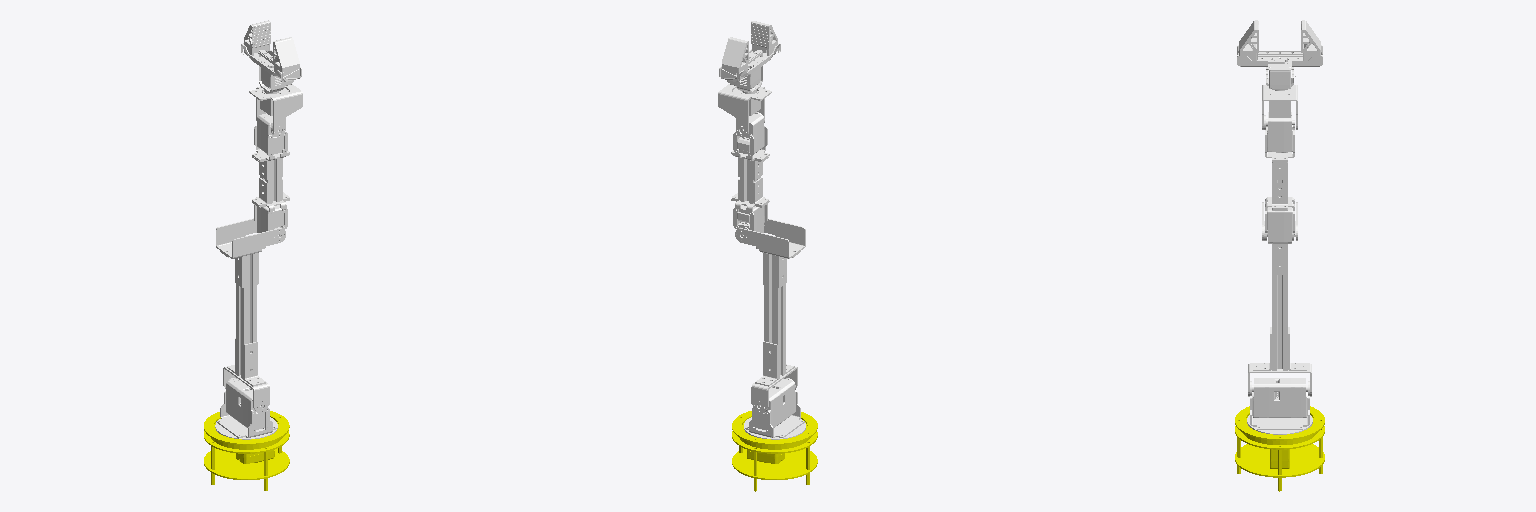
The robot description file, URDF, robot "arm_urdf_v1":
<?xml version="1.0" encoding="utf-8"?>
<!-- This URDF was automatically created by SolidWorks to URDF Exporter! Originally created by Stephen Brawner (brawner@gmail.com) 
     Commit Version: 2.1.0-preview+a777a5df7fcf83c5797e6215b2dd953ad332730e  Build Version: 2.1.0.0
     For more information, please see http://wiki.ros.org/sw_urdf_exporter -->
<robot
  name="arm_urdf_v1">
  <link
    name="base_link">
    <inertial>
      <origin
        xyz="0.0027823708301877 1.78282551845362E-05 0.0322344797388895"
        rpy="0 0 0" />
      <mass
        value="0.137648369147651" />
      <inertia
        ixx="7.49940814911975E-05"
        ixy="-1.99332232697231E-09"
        ixz="-2.16226687073856E-10"
        iyy="7.6961555850411E-05"
        iyz="-2.86911248511132E-09"
        izz="0.000147095467924517" />
    </inertial>
    <visual>
      <origin
        xyz="0 0 0"
        rpy="0 0 0" />
      <geometry>
        <mesh
          filename="package://robot_arm_description/meshes/base_link.STL" />
      </geometry>
      <material
        name="base_link_material">
        <color
          rgba="1 1 0 1" />
      </material>
    </visual>
    <collision>
      <origin
        xyz="0 0 0"
        rpy="0 0 0" />
      <geometry>
        <mesh
          filename="package://robot_arm_description/meshes/base_link.STL" />
      </geometry>
    </collision>
  </link>
  <link
    name="link1">
    <inertial>
      <origin
        xyz="1.29135147213117E-05 4.87624178332441E-07 0.0270930090778101"
        rpy="0 0 0" />
      <mass
        value="0.0672738549378384" />
      <inertia
        ixx="2.02760976249465E-05"
        ixy="1.24368584296896E-09"
        ixz="-1.51076770262581E-08"
        iyy="1.77991197393053E-05"
        iyz="-1.63052359751714E-08"
        izz="2.66799965385104E-05" />
    </inertial>
    <visual>
      <origin
        xyz="0 0 0"
        rpy="0 0 0" />
      <geometry>
        <mesh
          filename="package://robot_arm_description/meshes/link1.STL" />
      </geometry>
      <material
        name="link1_material">
        <color
          rgba="1 1 1 1" />
      </material>
    </visual>
    <collision>
      <origin
        xyz="0 0 0"
        rpy="0 0 0" />
      <geometry>
        <mesh
          filename="package://robot_arm_description/meshes/link1.STL" />
      </geometry>
    </collision>
  </link>
  <joint
    name="joint1"
    type="revolute">
    <origin
      xyz="0.0010452 0 0.0375"
      rpy="0 0 0" />
    <parent
      link="base_link" />
    <child
      link="link1" />
    <axis
      xyz="0 0 -1" />
    <limit
      lower="-3.14"
      upper="3.14"
      effort="1.96"
      velocity="3.14" />
  </joint>
  <link
    name="link2">
    <inertial>
      <origin
        xyz="-0.000442306336937817 0.121151311397882 -0.0369999999998433"
        rpy="0 0 0" />
      <mass
        value="0.0602419832604664" />
      <inertia
        ixx="9.72474450537811E-05"
        ixy="-4.62195646296174E-07"
        ixz="-1.85622391928698E-18"
        iyy="1.75733168119684E-05"
        iyz="1.23560927414836E-17"
        izz="9.24360542582108E-05" />
    </inertial>
    <visual>
      <origin
        xyz="0 0 0"
        rpy="0 0 0" />
      <geometry>
        <mesh
          filename="package://robot_arm_description/meshes/link2.STL" />
      </geometry>
      <material
        name="link2_material">
        <color
          rgba="1 1 1 1" />
      </material>
    </visual>
    <collision>
      <origin
        xyz="0 0 0"
        rpy="0 0 0" />
      <geometry>
        <mesh
          filename="package://robot_arm_description/meshes/link2.STL" />
      </geometry>
    </collision>
  </link>
  <joint
    name="joint2"
    type="revolute">
    <origin
      xyz="0 -0.037 0.05675"
      rpy="1.5708 0 0" />
    <parent
      link="link1" />
    <child
      link="link2" />
    <axis
      xyz="0 0 -1" />
    <limit
      lower="-3.14"
      upper="3.14"
      effort="1.96"
      velocity="3.14" />
  </joint>
  <link
    name="link3">
    <inertial>
      <origin
        xyz="-7.35092847280877E-06 -0.0722497152792289 0.0185613638875236"
        rpy="0 0 0" />
      <mass
        value="0.0685142030991609" />
      <inertia
        ixx="1.45455480135611E-05"
        ixy="-3.98124726623833E-09"
        ixz="1.80776417281542E-14"
        iyy="6.36340672889623E-06"
        iyz="-1.39958746325874E-13"
        izz="1.59593100676058E-05" />
    </inertial>
    <visual>
      <origin
        xyz="0 0 0"
        rpy="0 0 0" />
      <geometry>
        <mesh
          filename="package://robot_arm_description/meshes/link3.STL" />
      </geometry>
      <material
        name="link3_material">
        <color
          rgba="1 1 1 1" />
      </material>
    </visual>
    <collision>
      <origin
        xyz="0 0 0"
        rpy="0 0 0" />
      <geometry>
        <mesh
          filename="package://robot_arm_description/meshes/link3.STL" />
      </geometry>
    </collision>
  </link>
  <joint
    name="joint3"
    type="revolute">
    <origin
      xyz="0.036 0.2255 -0.0175"
      rpy="-3.1416 0 0" />
    <parent
      link="link2" />
    <child
      link="link3" />
    <axis
      xyz="0 0 1" />
    <limit
      lower="-3.14"
      upper="3.14"
      effort="1.96"
      velocity="3.14" />
  </joint>
  <link
    name="link4">
    <inertial>
      <origin
        xyz="0.00890546014789784 0.031350765755028 -0.0194859320133668"
        rpy="0 0 0" />
      <mass
        value="0.0338152497794255" />
      <inertia
        ixx="7.77884215826069E-06"
        ixy="-3.54491874736133E-07"
        ixz="-1.52092627465147E-10"
        iyy="8.94038682739171E-06"
        iyz="1.34665313331111E-09"
        izz="7.69622859953679E-06" />
    </inertial>
    <visual>
      <origin
        xyz="0 0 0"
        rpy="0 0 0" />
      <geometry>
        <mesh
          filename="package://robot_arm_description/meshes/link4.STL" />
      </geometry>
      <material
        name="link4_material">
        <color
          rgba="1 1 1 1" />
      </material>
    </visual>
    <collision>
      <origin
        xyz="0 0 0"
        rpy="0 0 0" />
      <geometry>
        <mesh
          filename="package://robot_arm_description/meshes/link4.STL" />
      </geometry>
    </collision>
  </link>
  <joint
    name="joint4"
    type="revolute">
    <origin
      xyz="-2.403E-05 -0.148 -0.0005"
      rpy="3.1416 0 0" />
    <parent
      link="link3" />
    <child
      link="link4" />
    <axis
      xyz="0 0 -1" />
    <limit
      lower="-3.14"
      upper="3.14"
      effort="1.96"
      velocity="3.14" />
  </joint>
  <link
    name="link5">
    <inertial>
      <origin
        xyz="0.000643044620097205 1.42901787002402E-05 0.0479023828669401"
        rpy="0 0 0" />
      <mass
        value="0.0374081997491861" />
      <inertia
        ixx="4.98461873930068E-06"
        ixy="-8.01243499556447E-09"
        ixz="-5.04446966508269E-08"
        iyy="3.73057570139235E-06"
        iyz="4.88037255644196E-09"
        izz="5.62955617822416E-06" />
    </inertial>
    <visual>
      <origin
        xyz="0 0 0"
        rpy="0 0 0" />
      <geometry>
        <mesh
          filename="package://robot_arm_description/meshes/link5.STL" />
      </geometry>
      <material
        name="link5_material">
        <color
          rgba="1 1 1 1" />
      </material>
    </visual>
    <collision>
      <origin
        xyz="0 0 0"
        rpy="0 0 0" />
      <geometry>
        <mesh
          filename="package://robot_arm_description/meshes/link5.STL" />
      </geometry>
    </collision>
  </link>
  <joint
    name="joint5"
    type="revolute">
    <origin
      xyz="0.00097465 0.0505 -0.02003"
      rpy="-1.5708 0 0" />
    <parent
      link="link4" />
    <child
      link="link5" />
    <axis
      xyz="0 0 -1" />
    <limit
      lower="-3.14"
      upper="3.14"
      effort="1.96"
      velocity="3.14" />
  </joint>

  <!-- ★ 新增：TCP -->
  <link name="tcp_link" />
  <joint name="joint_tcp" type="fixed">
    <parent link="link5" />
    <child link="tcp_link" />
    <origin xyz="0 0 0.10" rpy="0 0 0" />
  </joint>
</robot>

--- What the picture shows (computed from the rendered views, not written in the file) ---
The picture shows the robot from 3 angles, left to right: view 1: azimuth 30°, elevation 25°; view 2: azimuth 150°, elevation 25°; view 3: azimuth 270°, elevation 25°; orthographic projection.
Model arm_urdf_v1 with 7 links and 6 joints (5 revolute, 1 fixed), rooted at base_link, posed every joint at zero.
Visible links, largest first — view 1: link2, base_link, link3, link5, link1, link4; view 2: link2, base_link, link3, link5, link1, link4; view 3: base_link, link1, link3, link2, link5, link4.
Boxes of the visible links, x1,y1,x2,y2 form: link2: (216, 218, 285, 413); base_link: (204, 411, 289, 490); link3: (252, 113, 289, 237); link5: (241, 20, 301, 93); link1: (215, 379, 277, 439); link4: (249, 84, 302, 137); link2: (735, 219, 805, 413); base_link: (732, 411, 817, 491); link3: (731, 114, 769, 237); link5: (719, 21, 780, 93); link1: (744, 379, 805, 439); link4: (718, 84, 771, 137); base_link: (1235, 406, 1324, 491); link1: (1247, 378, 1312, 434); link3: (1264, 112, 1294, 243); link2: (1248, 202, 1311, 396); link5: (1237, 20, 1322, 90); link4: (1262, 85, 1297, 129).
Size in the robot's own frame: 0.126 by 0.11 by 0.6191 metres.
Meshes: 6 distinct files referenced, 6 mesh visuals loaded (6 binary STL).
